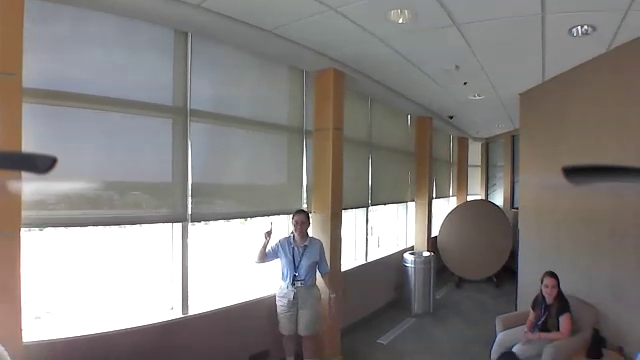up: (262, 219, 275, 243)
